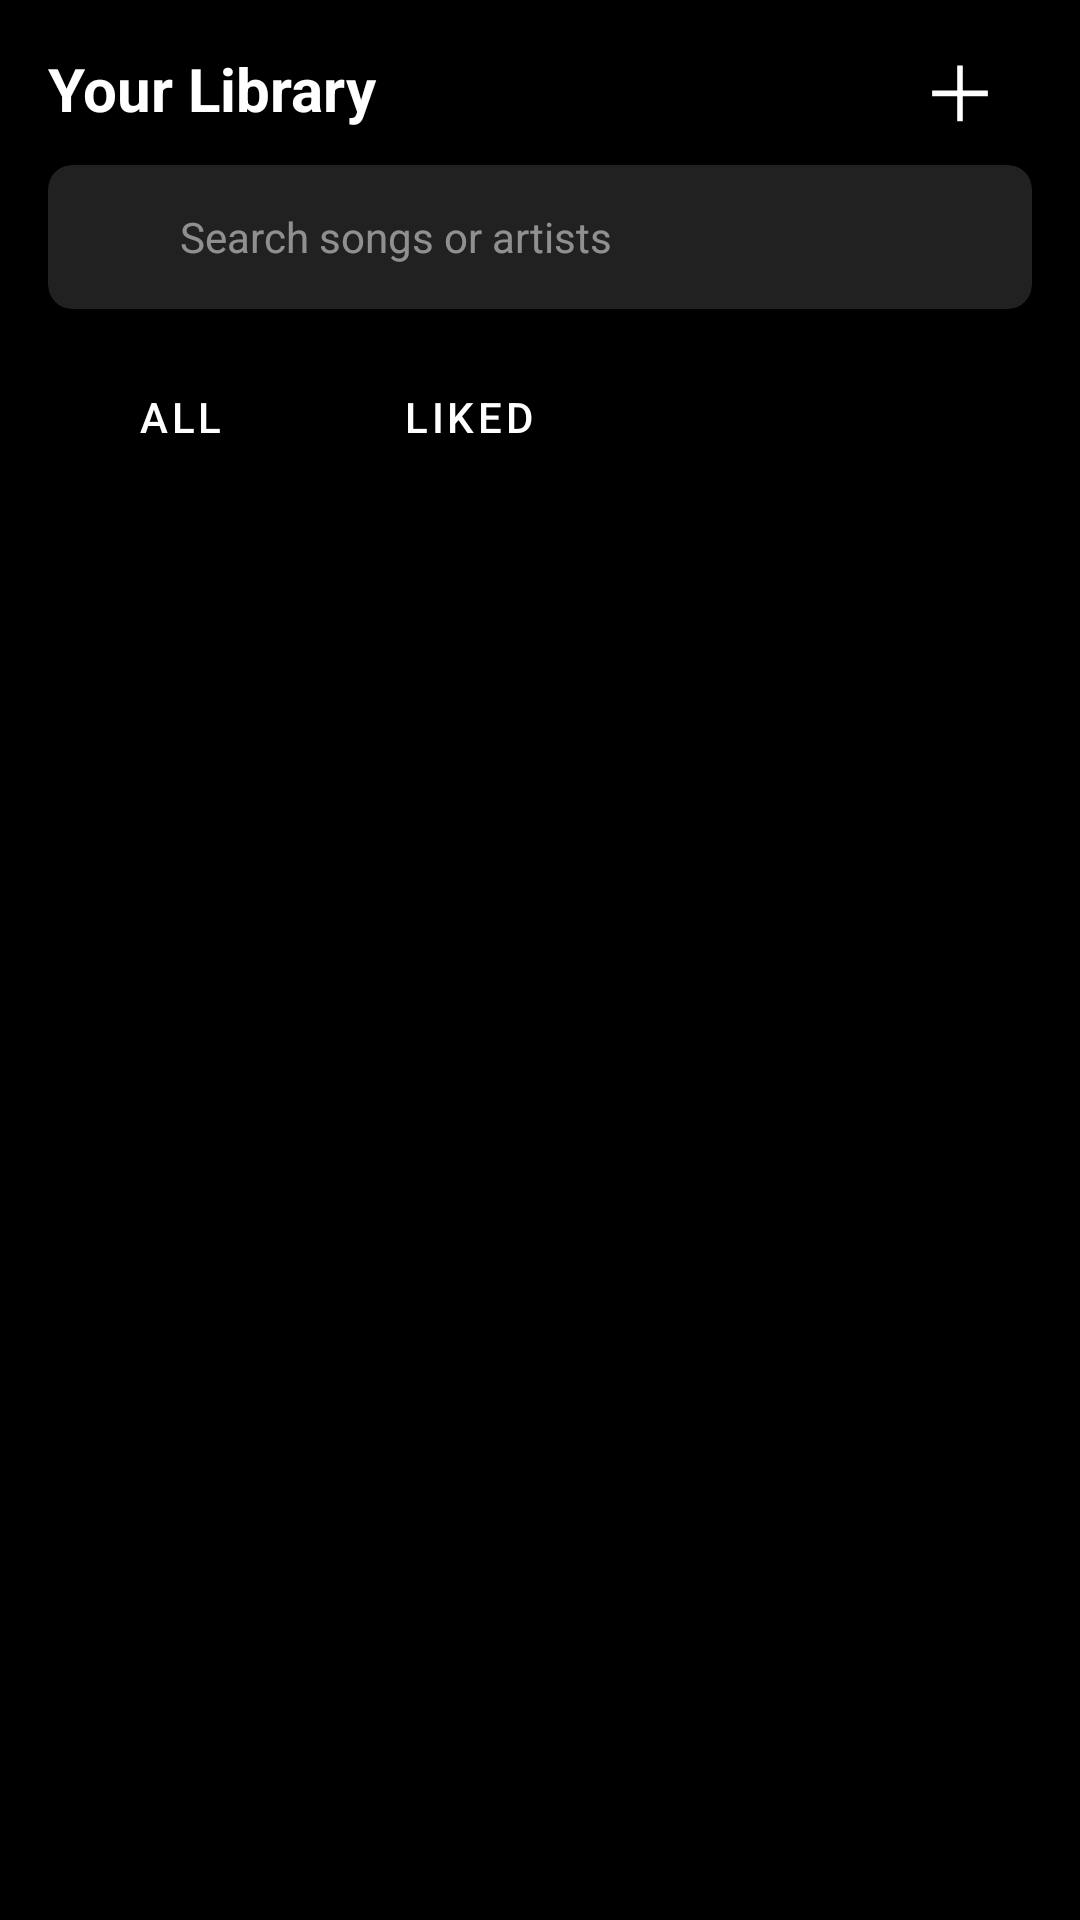

Where to tap for icons on this 1080*1920 app screen, as (x=x, y=y):
Add Song: (x=960, y=93)
